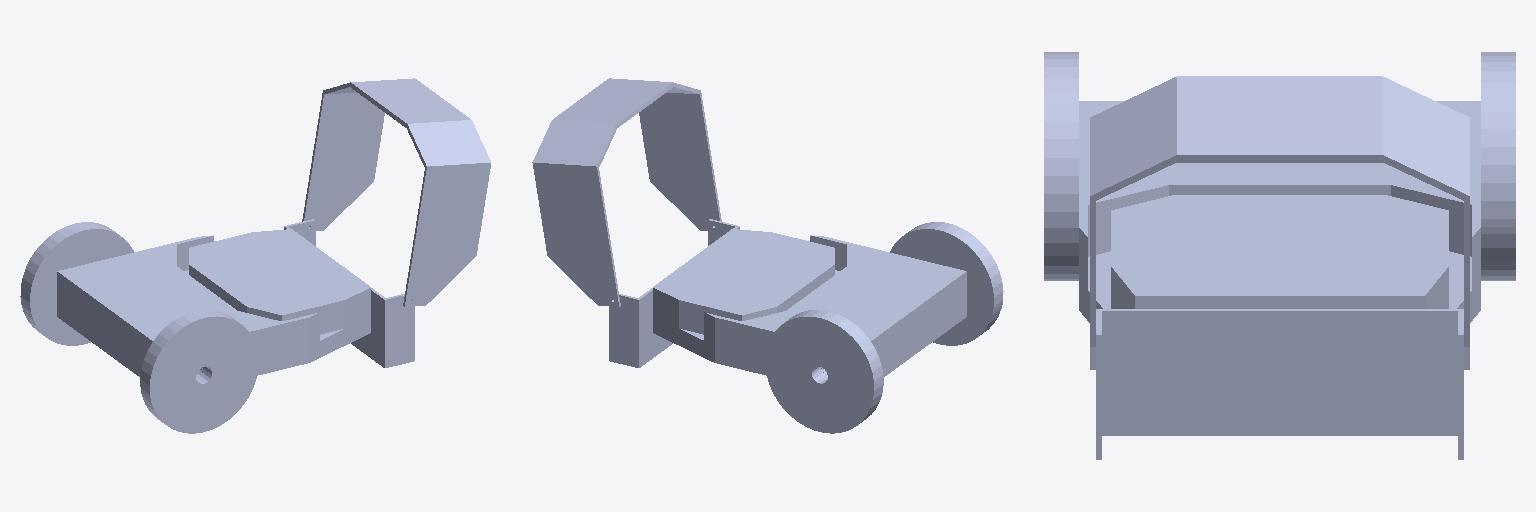
URDF robot description (robot_19):
<?xml version="1.0" encoding="utf-8"?>
<!-- This URDF was automatically created by SolidWorks to URDF Exporter! Originally created by [author] ([email redacted]) 
     Commit Version: 1.6.0-1-g15f4949  Build Version: 1.6.7594.29634
     For more information, please see http://wiki.ros.org/sw_urdf_exporter -->
<robot
  name="robot_19">
  <link
    name="base_link">
    <inertial>
      <origin
        xyz="-0.00015122 0.036523 -6.678E-16"
        rpy="0 0 0" />
      <mass
        value="5" />
      <inertia
        ixx="0.09845"
        ixy="0.0038461"
        ixz="2.303E-17"
        iyy="0.22964"
        iyz="2.4544E-19"
        izz="0.1456" />
    </inertial>
    <visual>
      <origin
        xyz="0 0 0"
        rpy="0 0 0" />
      <geometry>
        <mesh
          filename="package://robot_19/meshes/base_link.STL" />
      </geometry>
      <material
        name="">
        <color
          rgba="0.79216 0.81961 0.93333 1" />
      </material>
    </visual>
    <collision>
      <origin
        xyz="0 0 0"
        rpy="0 0 0" />
      <geometry>
        <mesh
          filename="package://robot_19/meshes/base_link.STL" />
      </geometry>
    </collision>
  </link>
  <link
    name="L_link">
    <inertial>
      <origin
        xyz="2.7756E-17 3.4694E-18 -0.015"
        rpy="0 0 0" />
      <mass
        value="0.92127" />
      <inertia
        ixx="0.0024241"
        ixy="0"
        ixz="3.1807E-19"
        iyy="0.0024241"
        iyz="-2.4632E-20"
        izz="0.00471" />
    </inertial>
    <visual>
      <origin
        xyz="0 0 0"
        rpy="0 0 0" />
      <geometry>
        <mesh
          filename="package://robot_19/meshes/L_link.STL" />
      </geometry>
      <material
        name="">
        <color
          rgba="0.79216 0.81961 0.93333 1" />
      </material>
    </visual>
    <collision>
      <origin
        xyz="0 0 0"
        rpy="0 0 0" />
      <geometry>
        <mesh
          filename="package://robot_19/meshes/L_link.STL" />
      </geometry>
    </collision>
  </link>
  <joint
    name="L_joint"
    type="continuous">
    <origin
      xyz="-0.15093 0.175 0.04"
      rpy="1.5708 0.11368 0" />
    <parent
      link="base_link" />
    <child
      link="L_link" />
    <axis
      xyz="0 0 -1" />
  </joint>
  <link
    name="R_link">
    <inertial>
      <origin
        xyz="0 0 0.015"
        rpy="0 0 0" />
      <mass
        value="0.92127" />
      <inertia
        ixx="0.0024241"
        ixy="-1.0842E-19"
        ixz="-4.0664E-19"
        iyy="0.0024241"
        iyz="3.1533E-21"
        izz="0.00471" />
    </inertial>
    <visual>
      <origin
        xyz="0 0 0"
        rpy="0 0 0" />
      <geometry>
        <mesh
          filename="package://robot_19/meshes/R_link.STL" />
      </geometry>
      <material
        name="">
        <color
          rgba="0.79216 0.81961 0.93333 1" />
      </material>
    </visual>
    <collision>
      <origin
        xyz="0 0 0"
        rpy="0 0 0" />
      <geometry>
        <mesh
          filename="package://robot_19/meshes/R_link.STL" />
      </geometry>
    </collision>
  </link>
  <joint
    name="R_joint"
    type="continuous">
    <origin
      xyz="-0.15093 -0.175 0.04"
      rpy="-1.5708 0.19296 -3.1416" />
    <parent
      link="base_link" />
    <child
      link="R_link" />
    <axis
      xyz="0 0 -1" />
  </joint>
  <link
    name="Gripper_link">
    <inertial>
      <origin
        xyz="0.0016471 -0.155 0.062648"
        rpy="0 0 0" />
      <mass
        value="0.27654" />
      <inertia
        ixx="0.003447"
        ixy="1.3053E-18"
        ixz="1.8299E-05"
        iyy="0.00038921"
        iyz="1.5681E-19"
        izz="0.003189" />
    </inertial>
    <visual>
      <origin
        xyz="0 0 0"
        rpy="0 0 0" />
      <geometry>
        <mesh
          filename="package://robot_19/meshes/Gripper_link.STL" />
      </geometry>
      <material
        name="">
        <color
          rgba="0.79216 0.81961 0.93333 1" />
      </material>
    </visual>
    <collision>
      <origin
        xyz="0 0 0"
        rpy="0 0 0" />
      <geometry>
        <mesh
          filename="package://robot_19/meshes/Gripper_link.STL" />
      </geometry>
    </collision>
  </link>
  <joint
    name="Gripper_joint"
    type="fixed">
    <origin
      xyz="0.21093 0.155 -0.05"
      rpy="0 0 0" />
    <parent
      link="base_link" />
    <child
      link="Gripper_link" />
    <axis
      xyz="0 0 0" />
  </joint>
  <link
    name="S_link">
    <inertial>
      <origin
        xyz="0.155 -0.1618 0.12238"
        rpy="0 0 0" />
      <mass
        value="0.56039" />
      <inertia
        ixx="0.0044382"
        ixy="-8.456E-11"
        ixz="2.8428E-11"
        iyy="0.010672"
        iyz="0.0012613"
        izz="0.012536" />
    </inertial>
    <visual>
      <origin
        xyz="0 0 0"
        rpy="0 0 0" />
      <geometry>
        <mesh
          filename="package://robot_19/meshes/S_link.STL" />
      </geometry>
      <material
        name="">
        <color
          rgba="0.79216 0.81961 0.93333 1" />
      </material>
    </visual>
    <collision>
      <origin
        xyz="0 0 0"
        rpy="0 0 0" />
      <geometry>
        <mesh
          filename="package://robot_19/meshes/S_link.STL" />
      </geometry>
    </collision>
  </link>
  <joint
    name="Slider_joint"
    type="revolute">
    <origin
      xyz="0.04 0 0.11"
      rpy="0.41605 0 -1.5708" />
    <parent
      link="Gripper_link" />
    <child
      link="S_link" />
    <axis
      xyz="1 0 0" />
    <limit
      lower="-3"
      upper="-0.5"
      effort="1000"
      velocity="0.5" />
  </joint>
  <gazebo>
    <plugin filename="libgazebo_ros_diff_drive.so" name="differential_drive_controller">
      <alwaysOn>true</alwaysOn>
      <updateRate>20</updateRate>
      <leftJoint>L_joint</leftJoint>
      <rightJoint>R_joint</rightJoint>
      <wheelSeparation>0.350</wheelSeparation>
      <wheelDiameter>0.2</wheelDiameter>
      <torque>100</torque>
      <commandTopic>cmd_vel</commandTopic>
      <odometryTopic>odom</odometryTopic>
      <odometryFrame>odom</odometryFrame>
      <robotBaseFrame>base_link</robotBaseFrame>
    </plugin>
  </gazebo>

</robot>

--- Facts derived from the render (not from the file) ---
Views: 3 orthographic renders of the robot side by side, from view 1: azimuth 30°, elevation 25°; view 2: azimuth 150°, elevation 25°; view 3: azimuth 270°, elevation 25°.
Robot: robot_19 — 5 links, 4 joints (1 revolute, 2 continuous, 1 fixed); root link base_link; default pose: all joints at 0 but 1 set to mid-range because 0 is outside their limits (Slider_joint = -1.75).
Links seen in each view (by area): view 1: base_link, S_link, R_link, L_link, Gripper_link; view 2: base_link, S_link, L_link, R_link, Gripper_link; view 3: base_link, Gripper_link, S_link, L_link, R_link.
Boxes of the visible links, x1=… form: base_link: x1=57, y1=229, x2=370, y2=376; S_link: x1=302, y1=78, x2=491, y2=306; R_link: x1=140, y1=310, x2=258, y2=433; L_link: x1=20, y1=222, x2=133, y2=345; Gripper_link: x1=284, y1=219, x2=414, y2=367; base_link: x1=653, y1=229, x2=966, y2=376; S_link: x1=532, y1=78, x2=721, y2=306; L_link: x1=765, y1=310, x2=883, y2=433; R_link: x1=890, y1=222, x2=1003, y2=345; Gripper_link: x1=609, y1=219, x2=739, y2=367; base_link: x1=1079, y1=101, x2=1480, y2=322; Gripper_link: x1=1096, y1=309, x2=1463, y2=459; S_link: x1=1090, y1=76, x2=1469, y2=369; L_link: x1=1481, y1=52, x2=1515, y2=280; R_link: x1=1044, y1=52, x2=1078, y2=280.
Size in the robot's own frame: 0.6567 by 0.41 by 0.391 metres.
5 mesh visuals loaded from 5 distinct referenced files (5 binary STL).